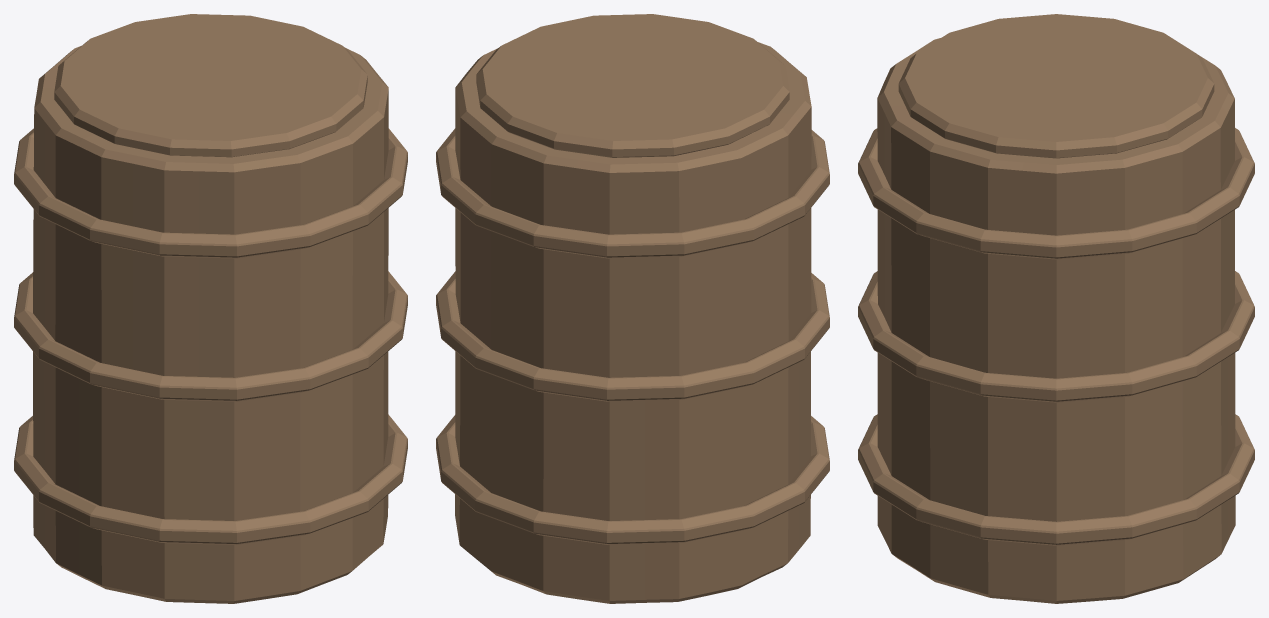
File: p_barrel.glb
The picture shows the model from 3 angles, left to right: view 1: azimuth 30°, elevation 25°; view 2: azimuth 150°, elevation 25°; view 3: azimuth 270°, elevation 25°; orthographic projection.
Visible parts, largest first — view 1: barrel; view 2: barrel; view 3: barrel.
Part boxes in pixels (x1,y1,x2,y2): barrel: [14, 14, 407, 603]; barrel: [436, 14, 829, 603]; barrel: [858, 14, 1254, 603].
Bounding box in the file's own units: 0.7539 × 0.9507 × 0.7539.
